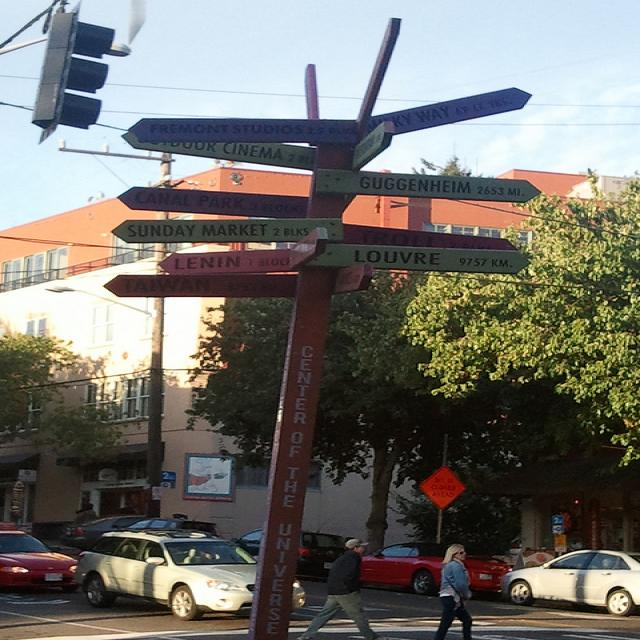Vehicle: (74, 530, 305, 620), (498, 549, 640, 617), (361, 544, 510, 594), (231, 528, 350, 582), (1, 530, 77, 592), (60, 515, 146, 550), (115, 518, 226, 540)
